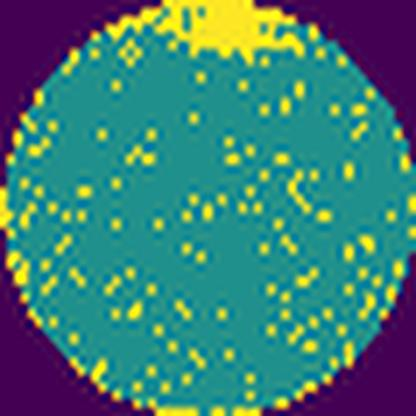Edge-Loc: (106, 0, 309, 60)
